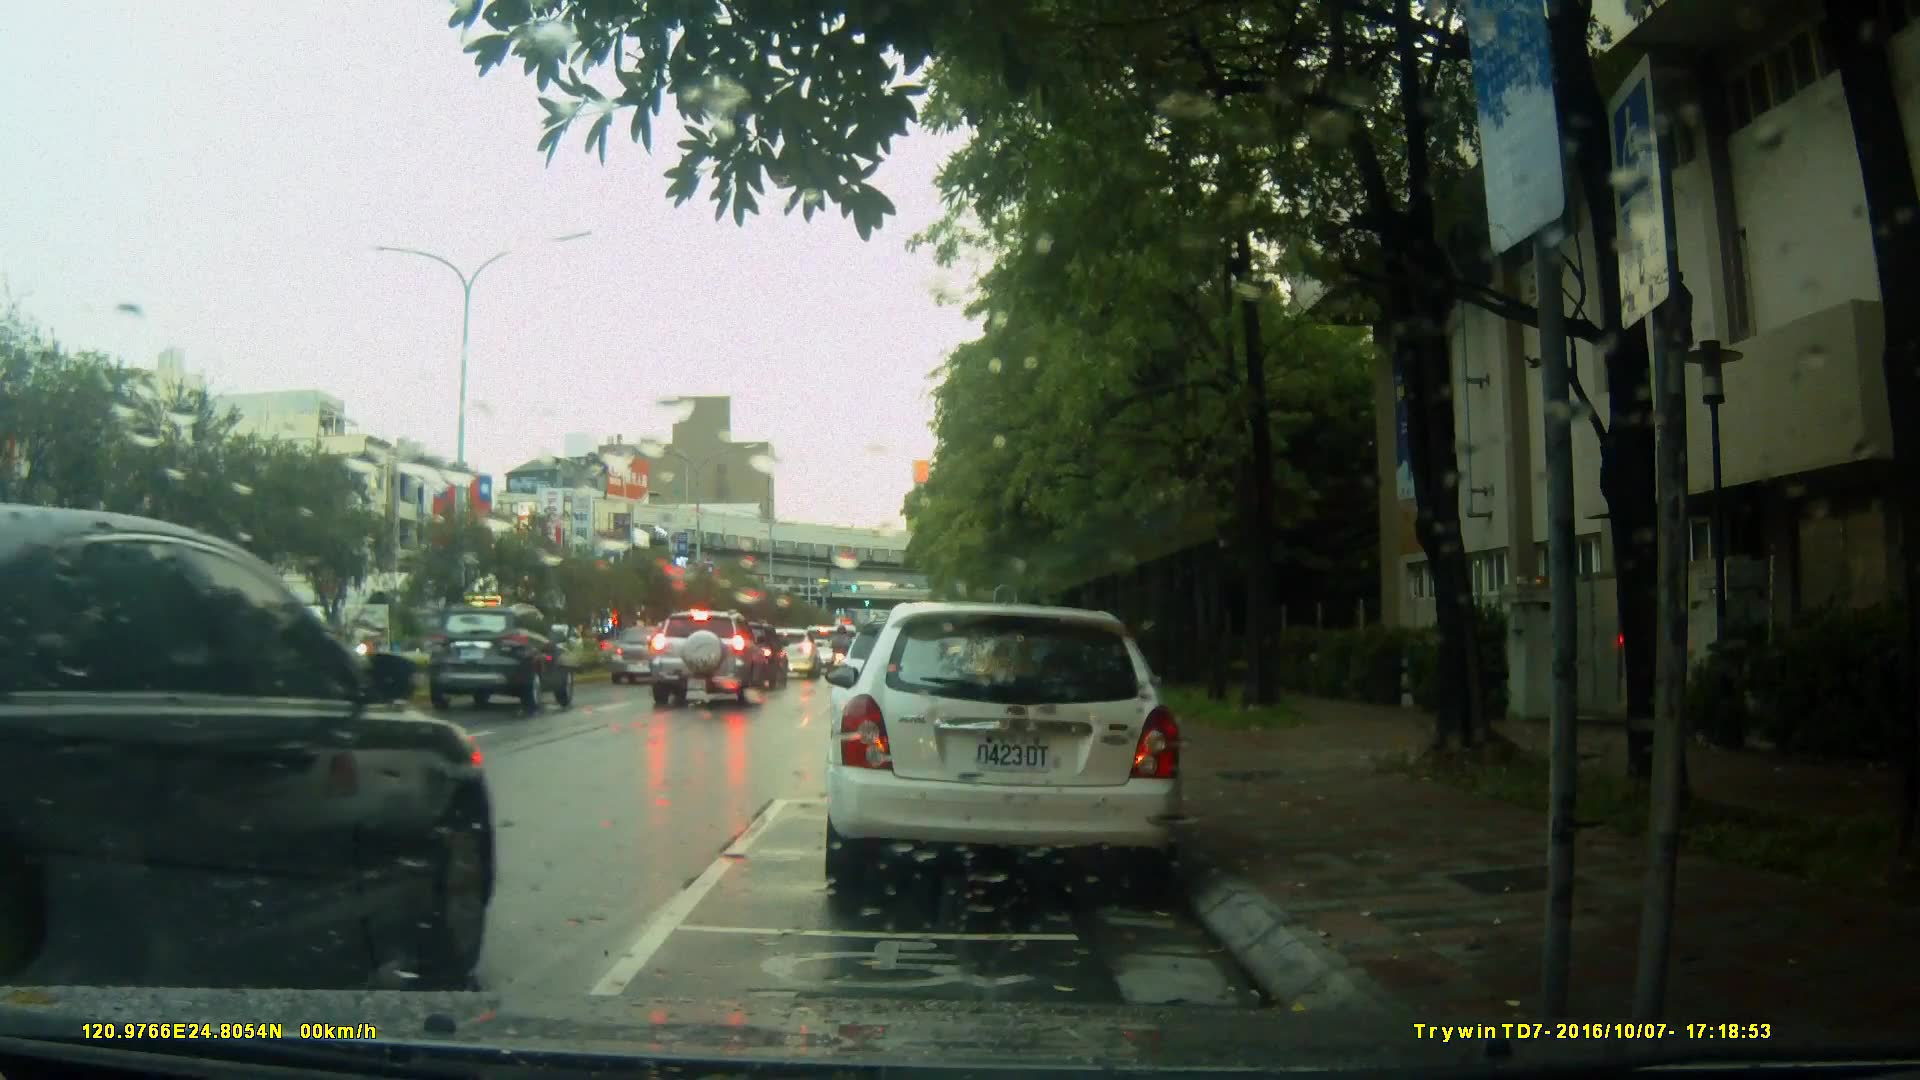rider: (826, 625, 860, 693)
vehicle: (1, 500, 501, 988), (820, 602, 1188, 898), (424, 602, 578, 709), (649, 609, 764, 710)
